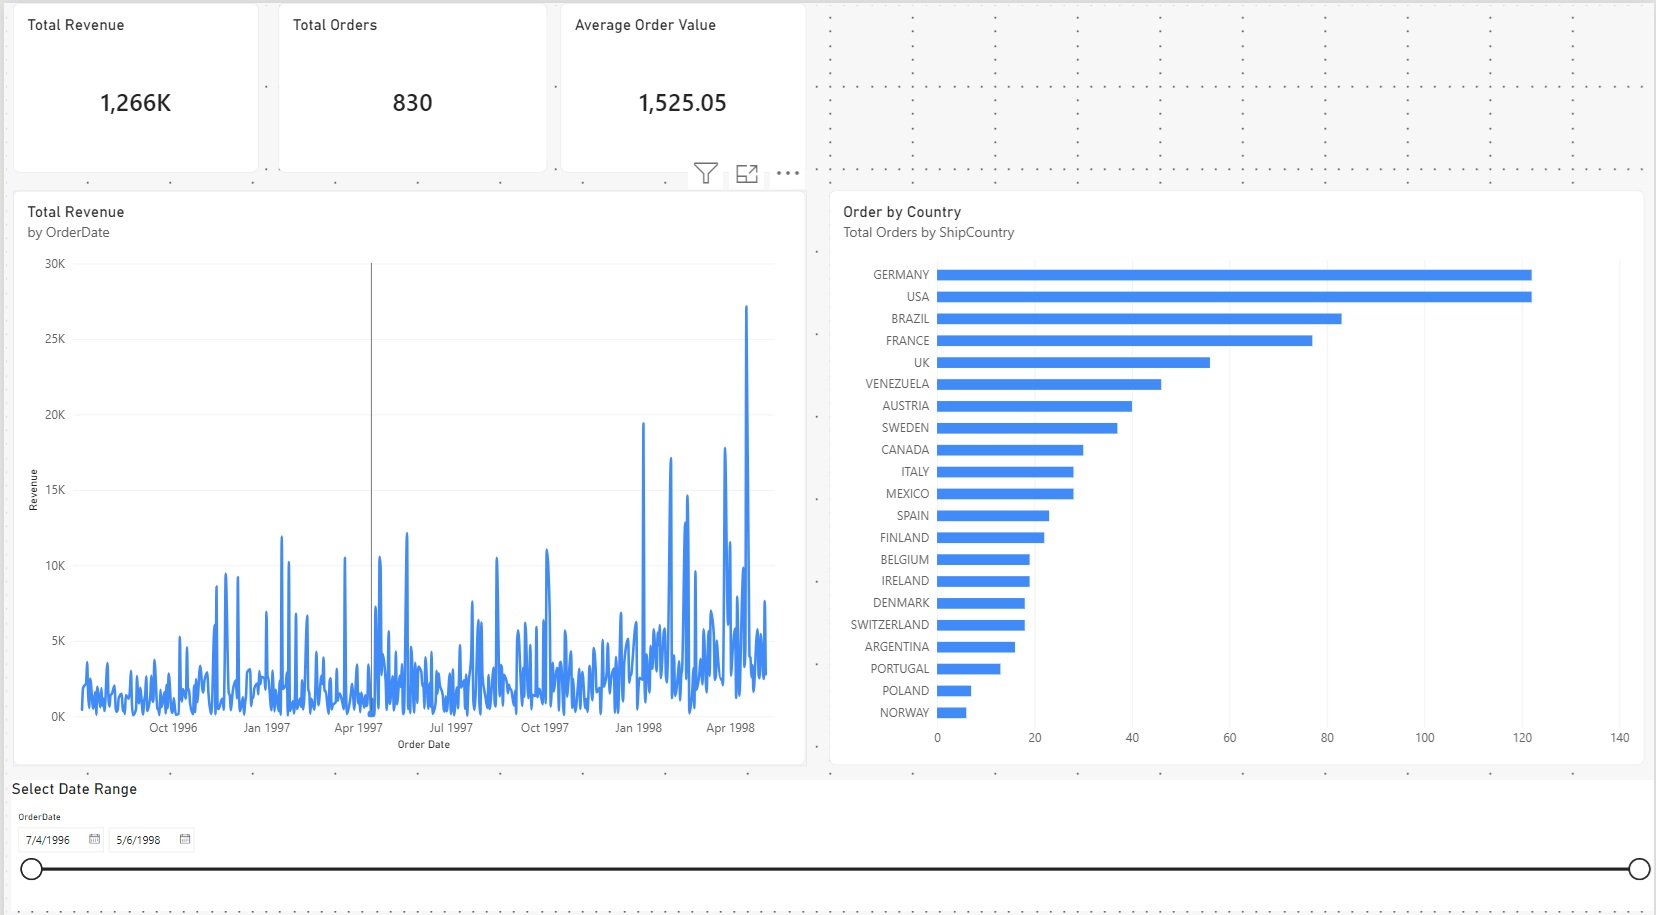

Layout of this report page (visuals, bound fields, positions):
{"tool":"powerbi","page":{"name":"Sales Overview","canvas":[1920,1080],"ordinal":0},"visuals":[{"type":"card","title":"Total Revenue","fields":{"Values":["OrderDetails.Total Revenue"]},"box":[11,69.2,286.4,127.5],"z":0},{"type":"card","title":"Total Orders","fields":{"Values":["OrderDetails.Total Orders"]},"box":[319.5,69.2,311.6,127.5],"z":1},{"type":"card","title":"Average Order Value","fields":{"Values":["Orders.Average Order Value"]},"box":[646.8,69.2,286.4,127.5],"z":2},{"type":"lineChart","fields":{"Category":["Orders.OrderDate"],"Y":["OrderDetails.Total Revenue"]},"box":[10.5,218.2,923.3,668.5],"z":3},{"type":"clusteredBarChart","title":"Order by Country","fields":{"Category":["Orders.ShipCountry"],"Y":["Orders.Total Orders"]},"box":[960,218.8,949,668.9],"z":4},{"type":"slicer","title":"Select Date Range","fields":{"Values":["Orders.OrderDate"]},"box":[9.4,904.9,1910.6,151.1],"z":5},{"type":"pageNavigator","box":[0,0,1909,50.4],"z":6}]}

Visuals, with their boxes in screenshot pixels (x1, y1, x2, y2), scaled from the page's 1920x1080 canvas onto the 1656x915 screenshot:
"Total Revenue" card: {"x1": 9, "y1": 59, "x2": 257, "y2": 167}
"Total Orders" card: {"x1": 276, "y1": 59, "x2": 544, "y2": 167}
"Average Order Value" card: {"x1": 558, "y1": 59, "x2": 805, "y2": 167}
lineChart - Orders.OrderDate x OrderDetails.Total Revenue: {"x1": 9, "y1": 185, "x2": 805, "y2": 751}
"Order by Country" clusteredBarChart: {"x1": 828, "y1": 185, "x2": 1647, "y2": 752}
"Select Date Range" slicer: {"x1": 8, "y1": 767, "x2": 1655, "y2": 895}
pageNavigator: {"x1": 0, "y1": 0, "x2": 1647, "y2": 43}
